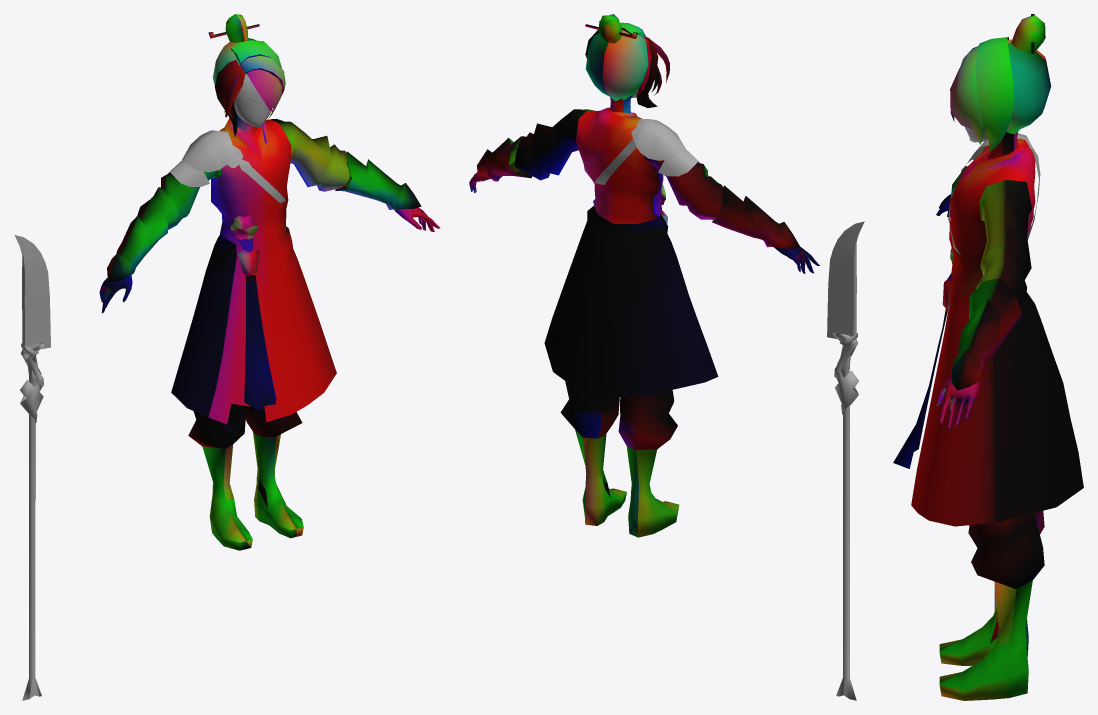
File: m_004_blade_soldier_4_view.fbx
3 renders of one model, left to right at view 1: azimuth 30°, elevation 25°; view 2: azimuth 150°, elevation 25°; view 3: azimuth 270°, elevation 25°, orthographic. The views are drawn at different scales.
Visible parts, largest first — view 1: m_004_blade_soldier_4; view 2: m_004_blade_soldier_4; view 3: m_004_blade_soldier_4.
Part boxes in pixels (<box>): m_004_blade_soldier_4: <box>14,14,440,700</box>; m_004_blade_soldier_4: <box>469,14,864,700</box>; m_004_blade_soldier_4: <box>893,14,1083,700</box>.
Bounding box in the file's own units: 196 × 288 × 61.14.
